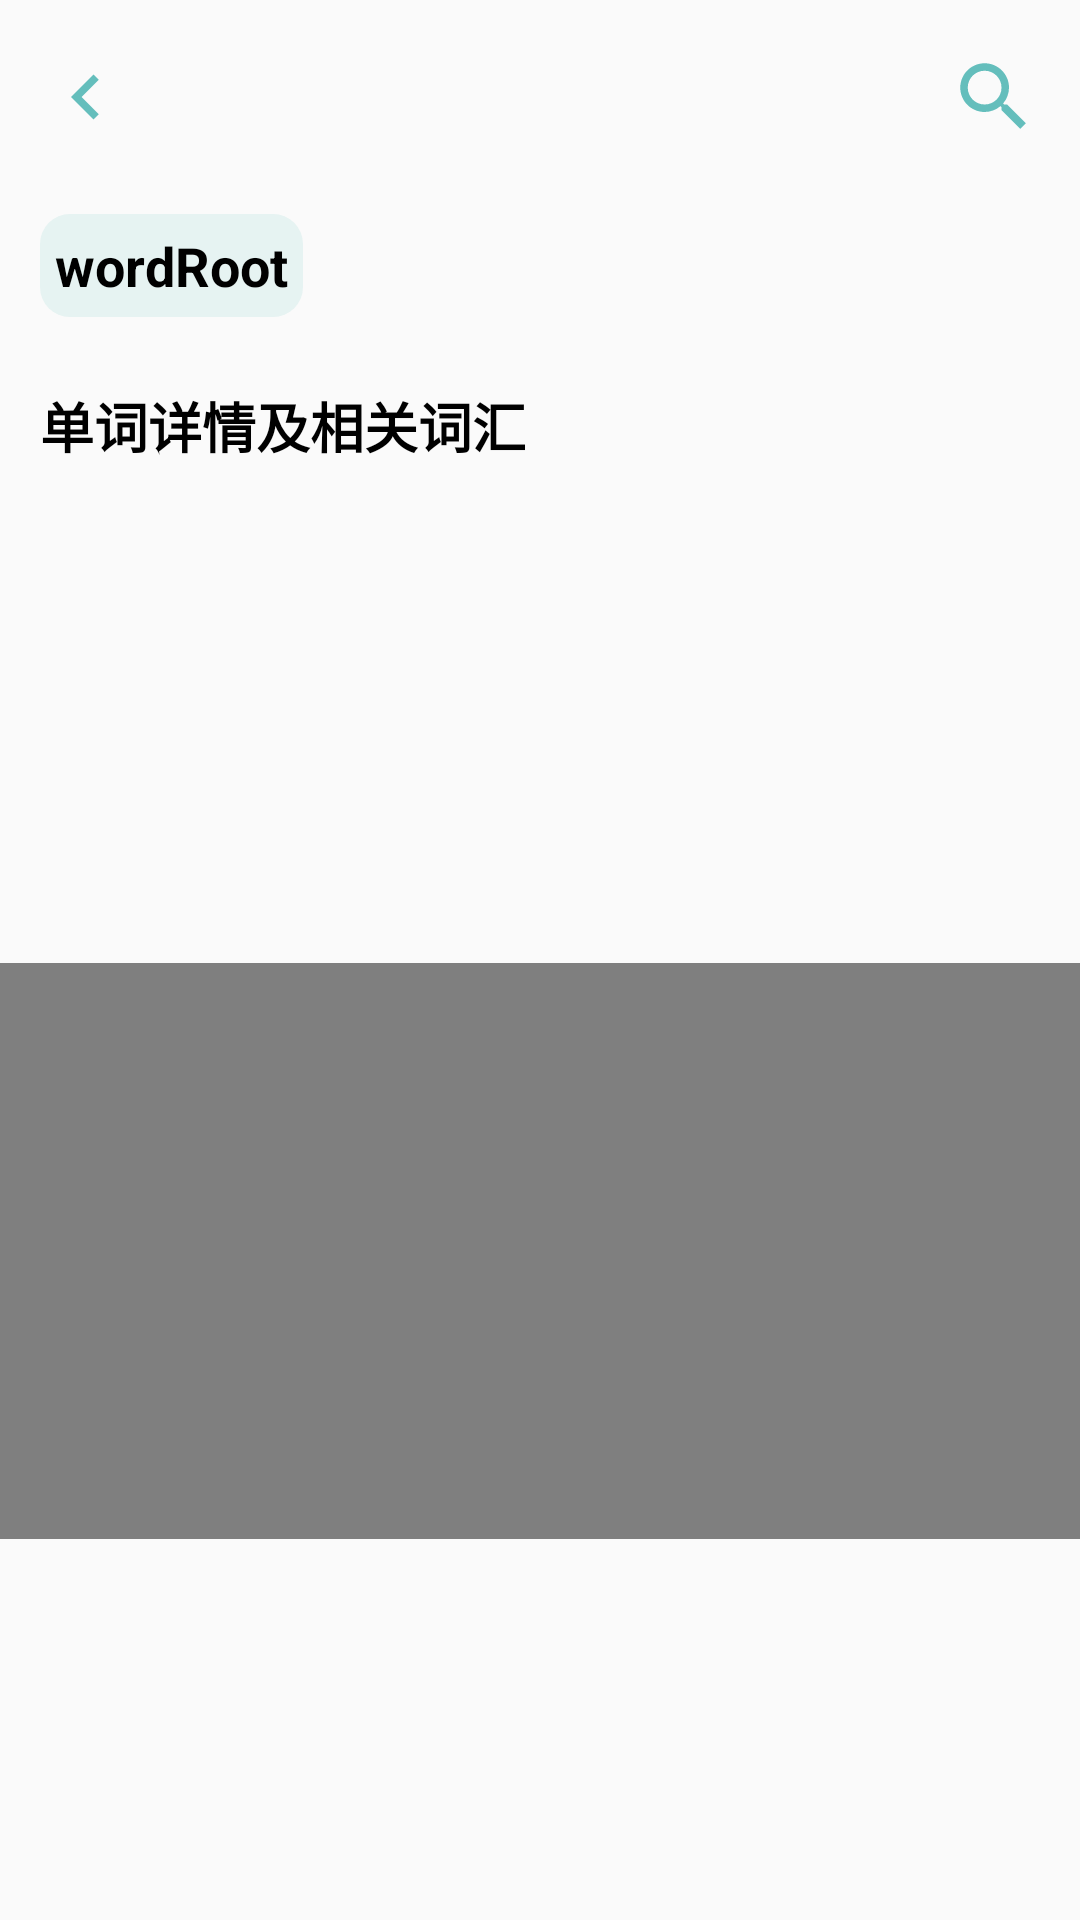

Icons on this 1080×1920 Android screen, each with its box as BBox(x1, y1, x2, y2):
keyboard arrow left: BBox(71, 74, 99, 120)
search: BBox(960, 63, 1026, 129)
